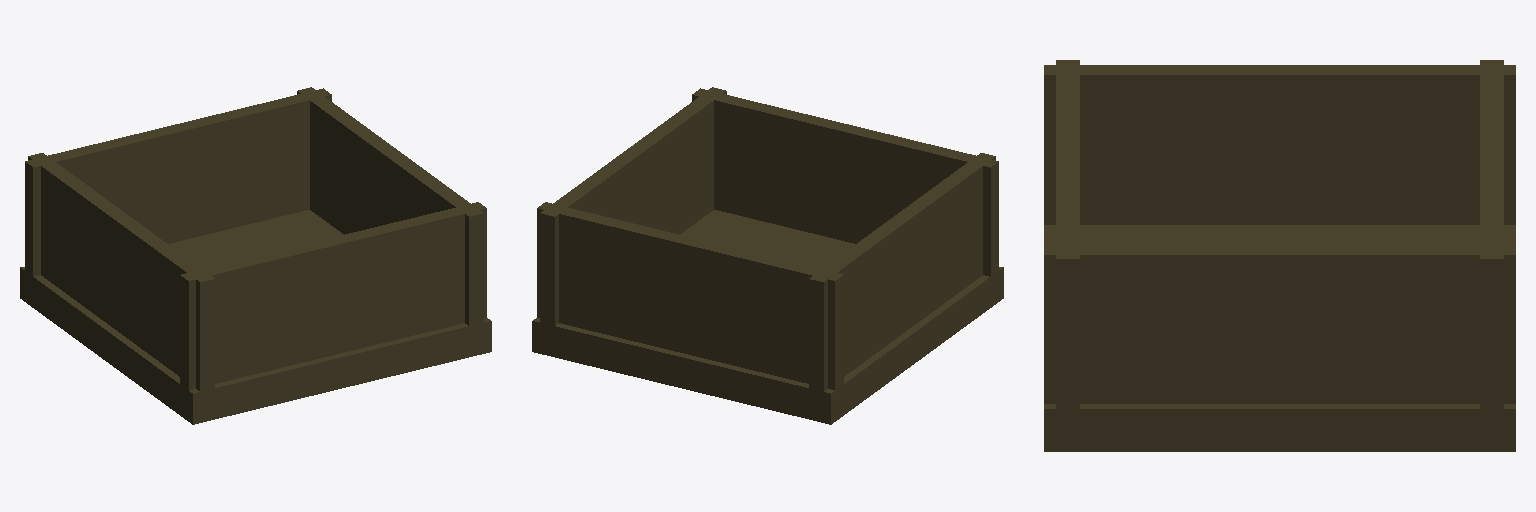
robot.urdf — bowl.urdf:
<?xml version="0.0" ?>
<robot name="bowl.urdf">

    <material name="yellow">
        <color rgba="1 1 0.4 1"/>
    </material>
    <material name="teal">
        <!--<color rgba="0 .5 .5 1"/>-->
        <color rgba="0.33 0.3 0.21 1"/>
    </material>

    <link name="world"/>

    <link name="base">
        <contact>
            <lateral_friction value="1.0"/>
            <rolling_friction value="0.0"/>
            <contact_cfm value="0.0"/>
            <contact_erp value="1.0"/>
        </contact>
        <inertial>
            <origin rpy="0 0 0" xyz="0.0 0.0 0.0"/>
            <mass value=".1"/>
            <inertia ixx="1" ixy="0" ixz="0" iyy="1" iyz="0" izz="1"/>
        </inertial>
        <visual>
            <origin rpy="0 0 0" xyz="0 0 -.3"/>
            <geometry>
                <box size="1.0 1.0 .1"/>
            </geometry>
            <material name="teal"/>
        </visual>
        <collision>
            <origin rpy="0 0 0" xyz="0 0 -.3"/>
            <geometry>
                <!--<box size="1.2 1.2 .1"/>-->
                <box size="1.0 1.0 .1"/>
            </geometry>
        </collision>
        <visual>
            <origin rpy="0 0 0" xyz="0 -.45 -.1"/>
            <geometry>
                <box size="1 .05 .4"/>
            </geometry>
            <material name="teal"/>
        </visual>
        <collision>
            <!-- right -->
            <origin rpy="0 0 0" xyz="0 -.45 -.1"/>
            <geometry>
                <box size="1 .05 .4"/>
            </geometry>
        </collision>
        <visual>
            <origin rpy="0 0 0" xyz="0 .45 -.1"/>
            <geometry>
                <box size="1 .05 .4"/>
            </geometry>
            <material name="teal"/>
        </visual>
        <collision>
            <!-- left -->
            <origin rpy="0 0 0" xyz="0 .45 -.1"/>
            <geometry>
                <box size="1 .05 .4"/>
            </geometry>
        </collision>
        <visual>
            <origin rpy="0 0 0" xyz=".45 0 -.1"/>
            <geometry>
                <box size=".05 1 .4"/>
            </geometry>
            <material name="teal"/>
        </visual>

        <collision>
            <!-- front -->
            <origin rpy="0 0 0" xyz=".45 0 -.1"/>
            <geometry>
                <box size=".05 1 .4"/>
            </geometry>
        </collision>
        <visual>
            <origin rpy="0 0 0" xyz="-.45 0 -.1"/>
            <geometry>
                <box size=".05 1 .4"/>
            </geometry>
            <material name="teal"/>
        </visual>

        <collision>
            <!-- back -->
            <origin rpy="0 0 0" xyz="-.45 0 -.1"/>
            <geometry>
                <box size=".05 1 .4"/>
            </geometry>
        </collision>
    </link>

    <joint name="base_joint" type="fixed">
        <parent link="world"/>
        <child link="base"/>
    </joint>

</robot>

--- Facts derived from the render (not from the file) ---
3 views of the same robot in one strip: view 1: azimuth 30°, elevation 25°; view 2: azimuth 150°, elevation 25°; view 3: azimuth 270°, elevation 25° (orthographic).
Model bowl.urdf with 2 links and 1 joints (1 fixed), rooted at world, posed all joints at 0.
Visible links, largest first — view 1: base; view 2: base; view 3: base.
Boxes of the visible links, x1,y1,x2,y2 form: base: (20,87,491,424); base: (532,87,1003,424); base: (1044,60,1515,451).
Size in the robot's own frame: 1 by 1 by 0.45 metres.
Geometry: primitives only (box / cylinder / sphere), no mesh files.